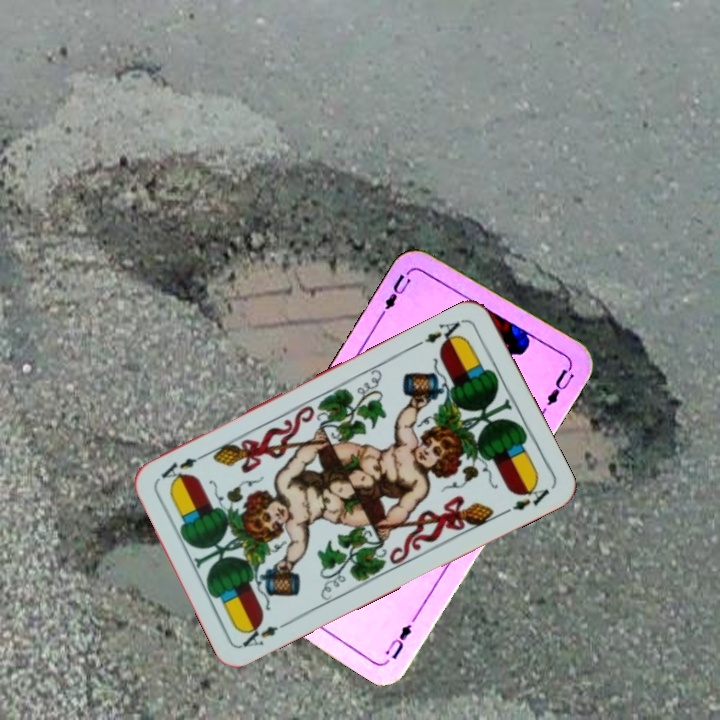EA: (420, 315, 467, 351), (236, 618, 281, 650)
EU: (377, 265, 415, 318), (381, 620, 414, 662)
